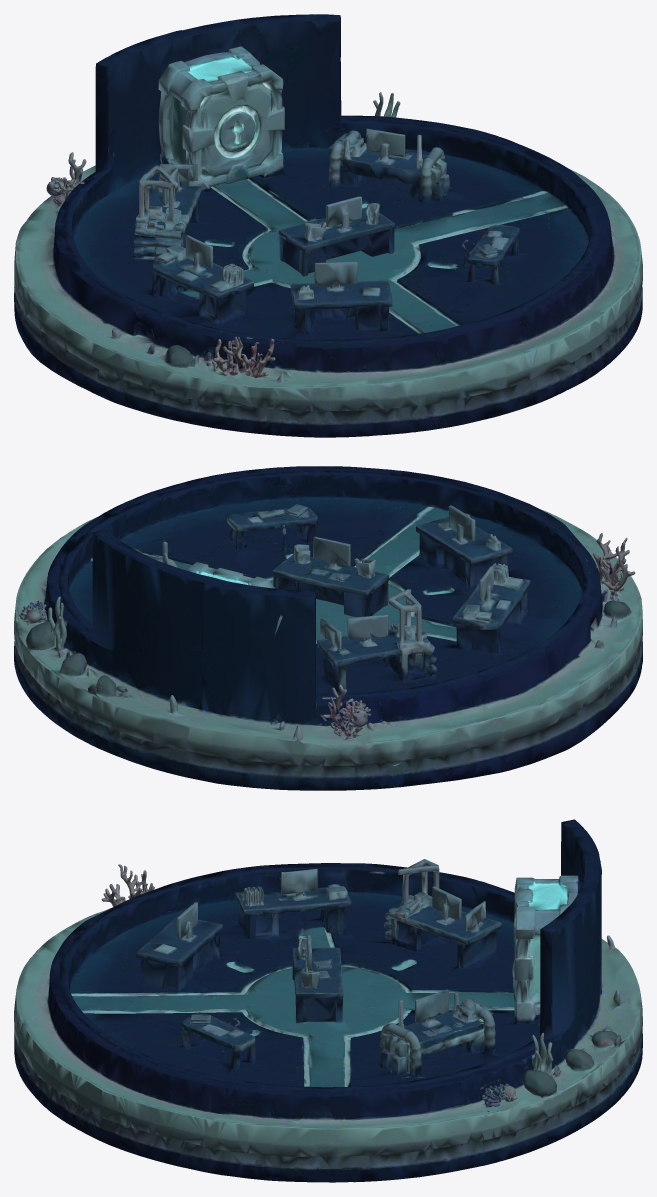
File: office.glb
3 renders of one model, top to bottom at view 1: azimuth 30°, elevation 25°; view 2: azimuth 150°, elevation 25°; view 3: azimuth 270°, elevation 25°, orthographic.
Size of the model in its own units: 1.9 by 0.6107 by 1.9.
1 material, 1 textured.
